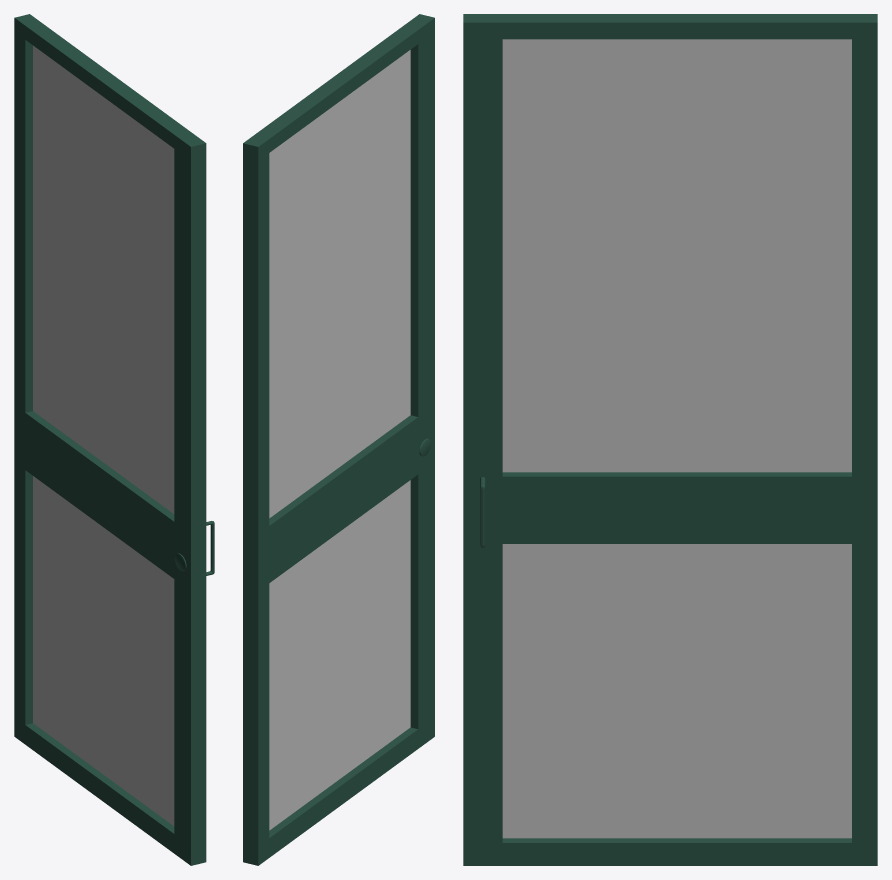
Rendered from SW_corridor__R_lobby_Ovi_074.FBX.
The picture shows the model from 3 angles, left to right: view 1: azimuth 30°, elevation 25°; view 2: azimuth 150°, elevation 25°; view 3: azimuth 270°, elevation 25°; orthographic projection. The views are drawn at different scales.
Parts seen in each view (by area): view 1: SW_corridor__R_lobby_Ovi_074; view 2: SW_corridor__R_lobby_Ovi_074; view 3: SW_corridor__R_lobby_Ovi_074.
Part boxes in pixels (box(x1,y1,x2,y2)): SW_corridor__R_lobby_Ovi_074: box(14, 14, 214, 865); SW_corridor__R_lobby_Ovi_074: box(243, 14, 434, 865); SW_corridor__R_lobby_Ovi_074: box(463, 14, 877, 865).
Bounding box in the file's own units: 11.6 × 110 × 246.
